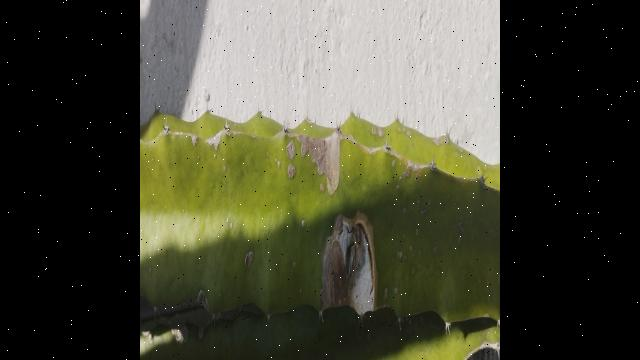stemcanker: (286, 116, 342, 197)
